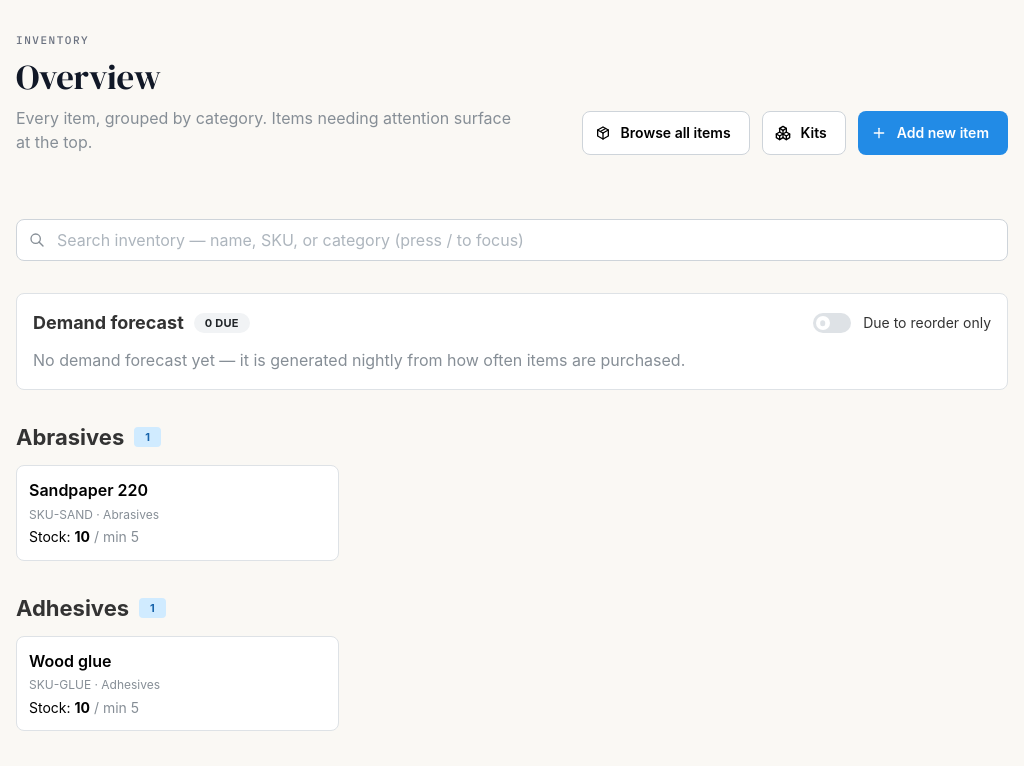
Test: InventoryOverviewPage search › typing in the search filters by item name
The image size is (1024, 766).
In the field labelled "Search inventory": (512, 240) [16,219,1008,261], type "wood"
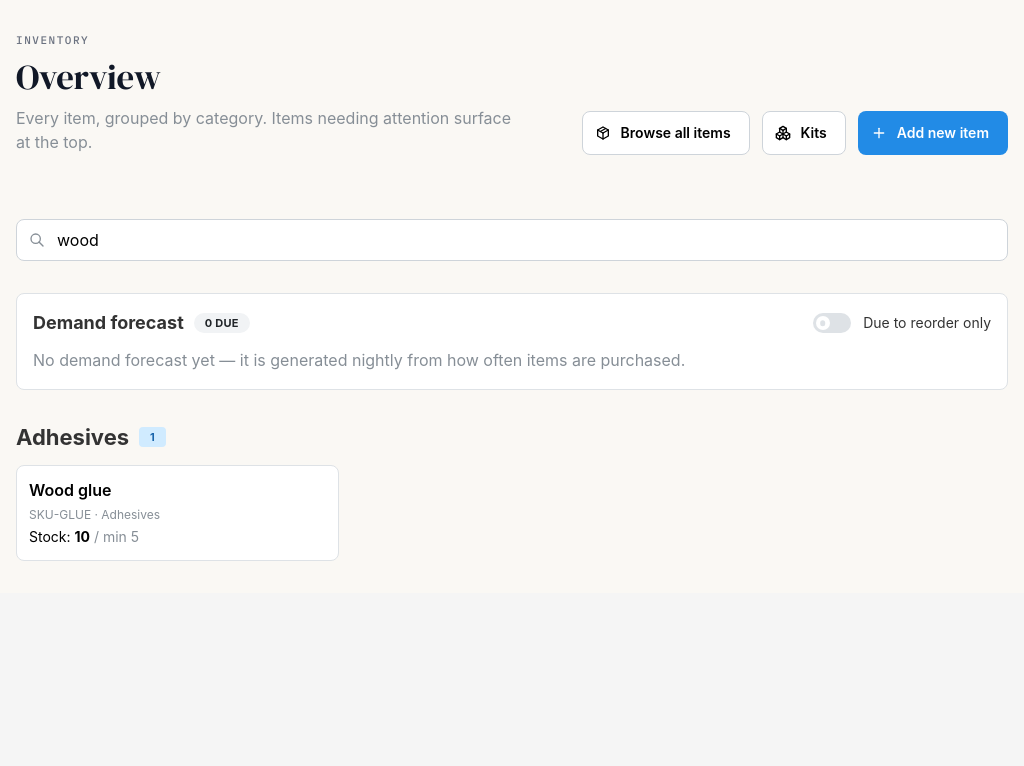
Expected: the text "Wood glue" is shown, [29,478,112,503]
Expected: the text "Sandpaper 220" is gone
